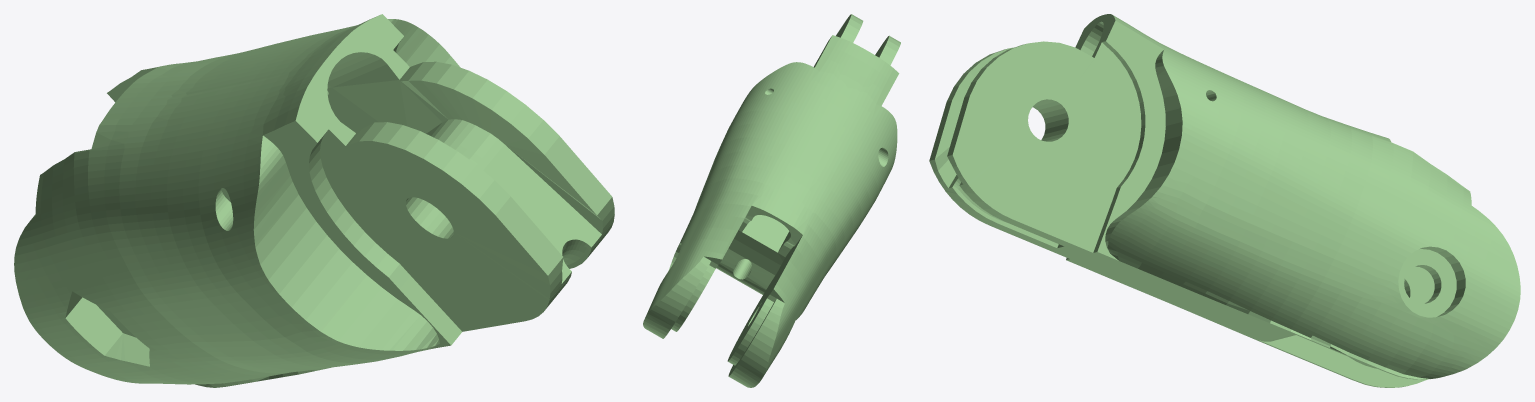
Rendered from i02_rightHand_indexPhal_visual.obj.
3 renders of one model, left to right at view 1: azimuth 30°, elevation 25°; view 2: azimuth 150°, elevation 25°; view 3: azimuth 270°, elevation 25°, orthographic. The views are drawn at different scales.
Visible parts, largest first — view 1: i02_rightHand_indexPhal_visual.001; view 2: i02_rightHand_indexPhal_visual.001; view 3: i02_rightHand_indexPhal_visual.001.
Part boxes in pixels (x1=…): i02_rightHand_indexPhal_visual.001: x1=14, y1=14, x2=614, y2=387; i02_rightHand_indexPhal_visual.001: x1=643, y1=14, x2=900, y2=387; i02_rightHand_indexPhal_visual.001: x1=929, y1=14, x2=1520, y2=387.
Bounding box in the file's own units: 0.2049 × 0.3471 × 0.4992.
